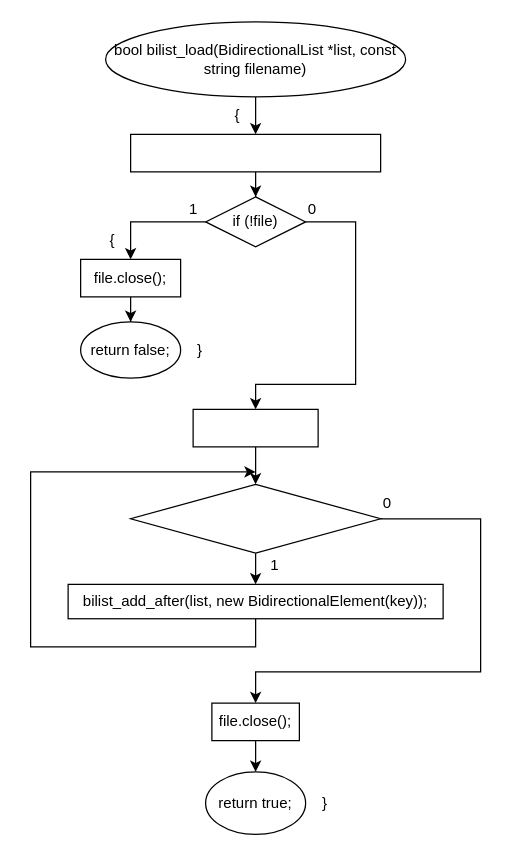
The diagram is 513 pixels wide and 856 high, and some of its shapes have lost their labels. The box of each missing label's shape, as (x1, y1, x2, y2) in pixels:
ifstream file(filename, ios::binary);: (129, 133, 381, 172)
string key;: (192, 408, 318, 447)
while (getline(file, key, '\0')): (129, 483, 381, 553)
